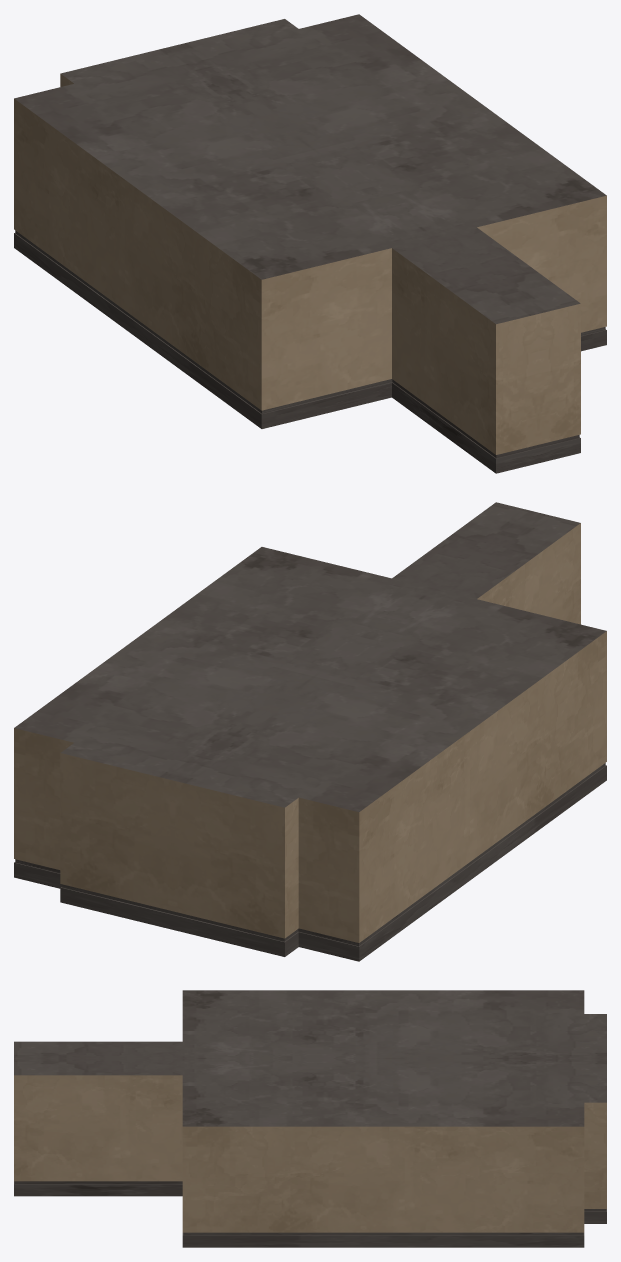
Rendered from casino.fbx.
The picture shows the model from 3 angles, top to bottom: view 1: azimuth 30°, elevation 25°; view 2: azimuth 150°, elevation 25°; view 3: azimuth 270°, elevation 25°; orthographic projection. The views are drawn at different scales.
Parts seen in each view (by area): view 1: Plane; view 2: Plane; view 3: Plane.
Part boxes in pixels (bbox=[...]): Plane: bbox=[14, 14, 606, 473]; Plane: bbox=[14, 502, 606, 961]; Plane: bbox=[14, 990, 606, 1247].
Size of the model in its own units: 11.71 by 4.92 by 21.5.
1 material, 1 textured.
